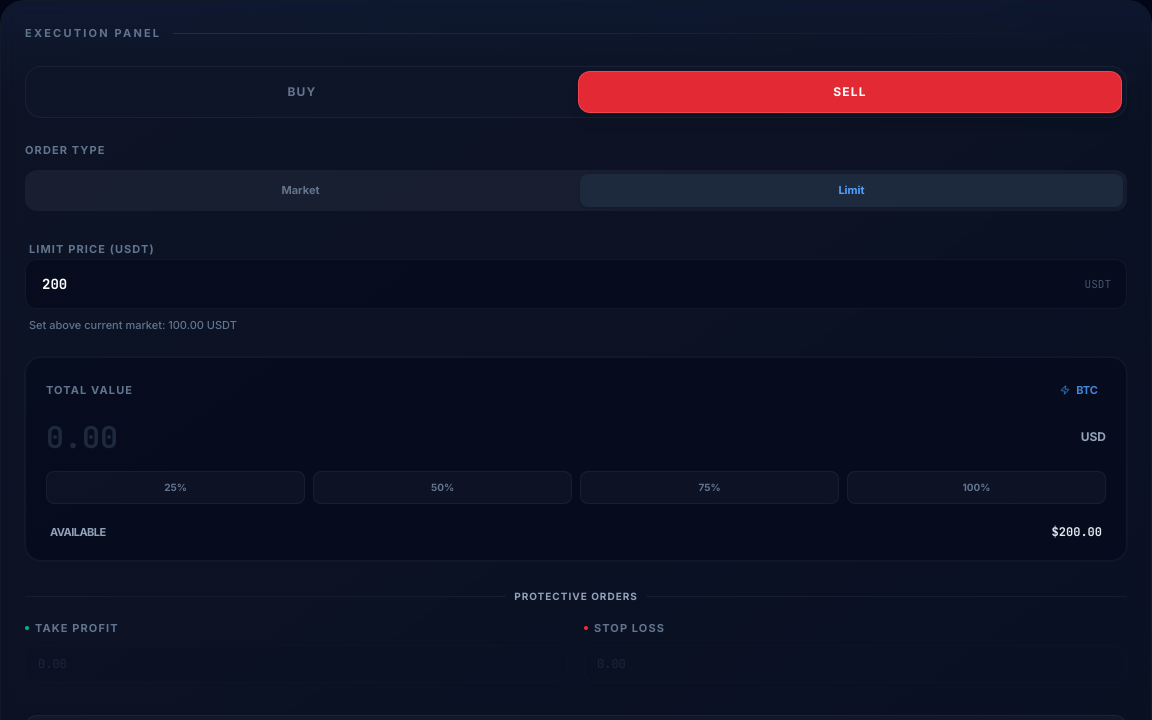
Test case: TradePanel quick presets › uses execution price for SELL total-value presets when a limit price is set
Click the button "100%": (976, 487) [847,470,1106,504]
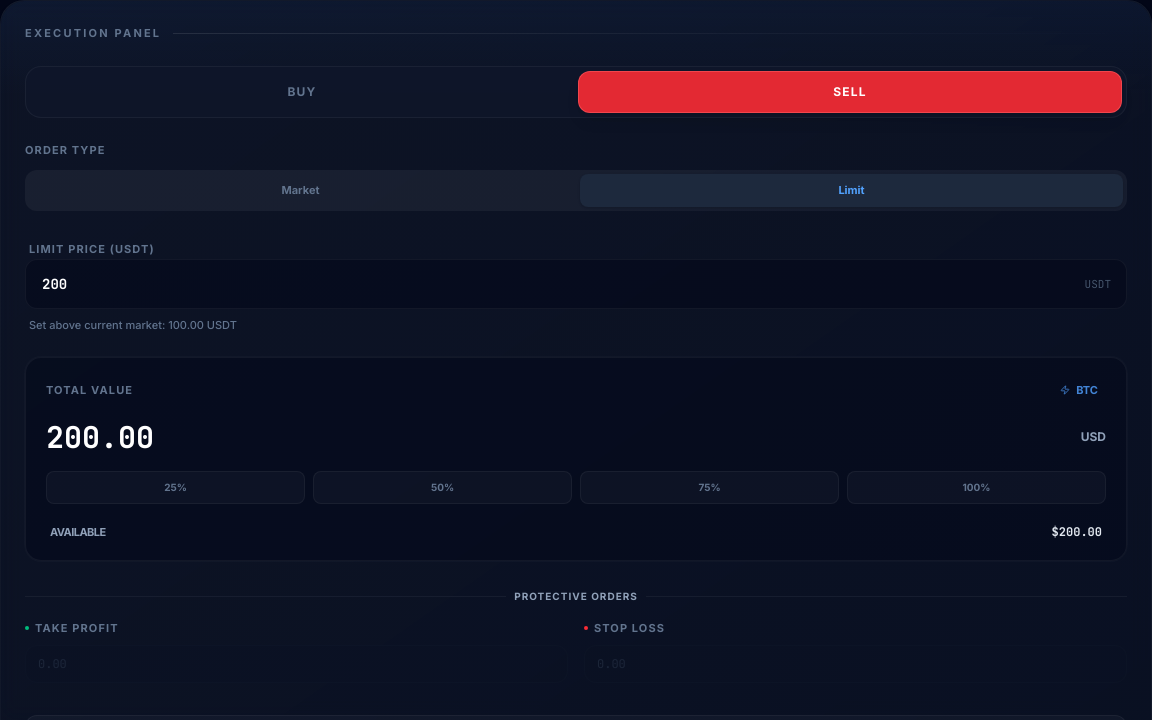
Check: the text "$200.00" is shown, box [1052,524,1102,540]
Check: the number field named "Trade amount input" holds "200", box [46,418,1106,454]
